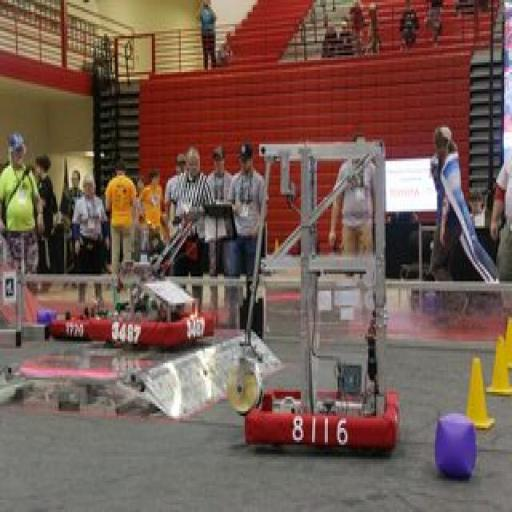robot: (225, 142, 404, 448), (112, 198, 210, 348), (40, 287, 126, 348)
